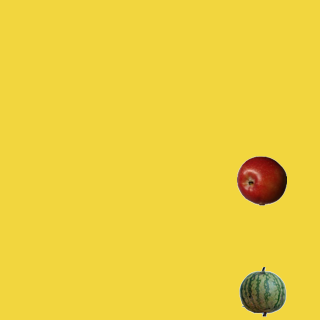Apple Braeburn: (236, 155, 286, 205)
Watermelon: (237, 266, 287, 316)
